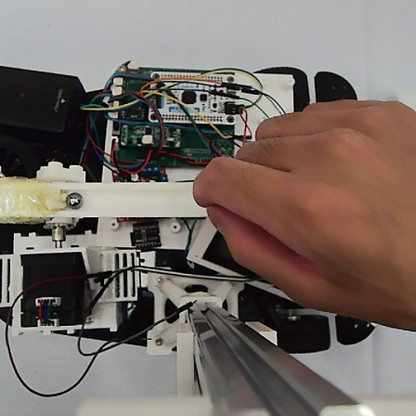ironball: (64, 189, 84, 210)
